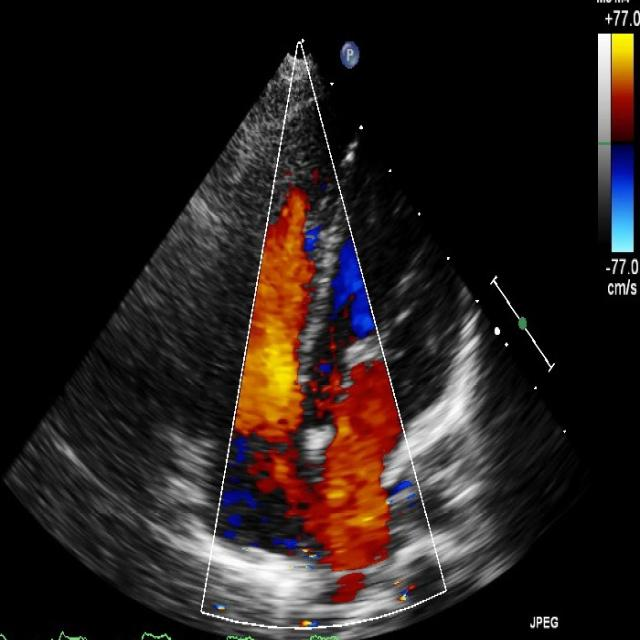ASDType2: (228, 426, 405, 602)
